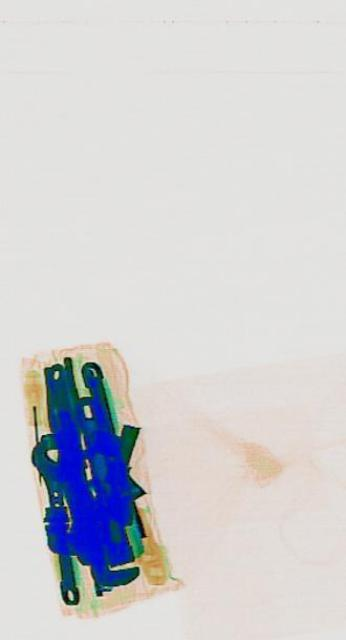Wrench: (29, 428, 85, 610)
